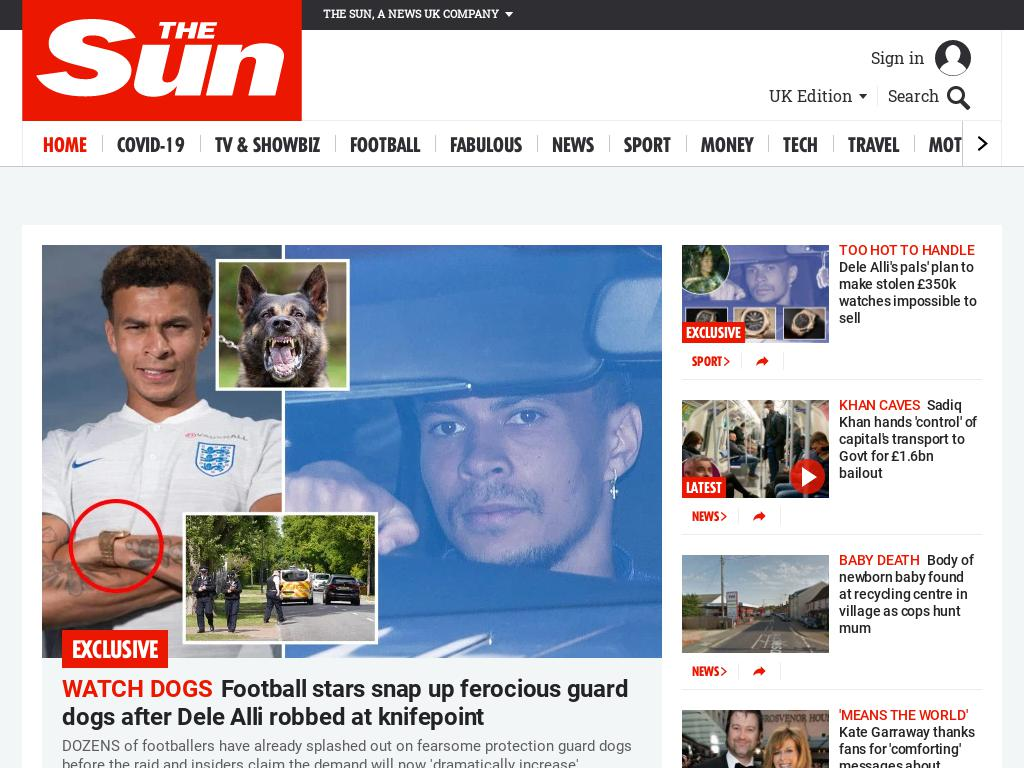button: (42, 245, 662, 658), (62, 675, 642, 768), (32, 0, 312, 122), (682, 245, 829, 343), (682, 400, 829, 498), (682, 555, 829, 653), (839, 242, 979, 327), (839, 397, 979, 482), (839, 552, 979, 637), (839, 707, 979, 768), (682, 710, 829, 768), (215, 120, 320, 166), (870, 40, 971, 76), (450, 120, 522, 166), (350, 120, 420, 166), (117, 120, 185, 166), (929, 120, 991, 166), (701, 120, 753, 166), (848, 120, 899, 166), (624, 120, 671, 166), (43, 120, 87, 166), (768, 86, 867, 106), (552, 120, 594, 166), (877, 86, 971, 106), (783, 120, 818, 166), (692, 353, 722, 369), (692, 508, 719, 524), (692, 663, 719, 679), (1021, 120, 1024, 166)
heading: (839, 245, 974, 380), (62, 737, 642, 768), (839, 400, 920, 535), (839, 555, 920, 690), (839, 710, 967, 768), (62, 675, 213, 703)
image: (42, 245, 662, 658), (32, 30, 320, 120), (682, 245, 829, 343), (682, 400, 829, 498), (682, 555, 829, 653), (682, 710, 829, 768), (934, 40, 971, 76), (946, 86, 971, 110), (978, 136, 988, 151), (756, 356, 769, 366), (753, 511, 766, 521), (753, 666, 766, 676), (724, 357, 730, 366), (721, 512, 727, 521), (721, 667, 727, 676), (858, 94, 867, 99), (505, 12, 513, 17)
link: (62, 675, 628, 731), (839, 397, 977, 481), (839, 552, 973, 636), (839, 259, 977, 326), (839, 724, 975, 768)
text: (0, 0, 1024, 167), (62, 630, 168, 668), (323, 6, 499, 21), (768, 86, 853, 106), (682, 322, 745, 343), (790, 459, 825, 494), (870, 47, 925, 68), (887, 86, 939, 106), (682, 477, 726, 498), (692, 355, 722, 372), (692, 510, 719, 527), (692, 665, 719, 682)
